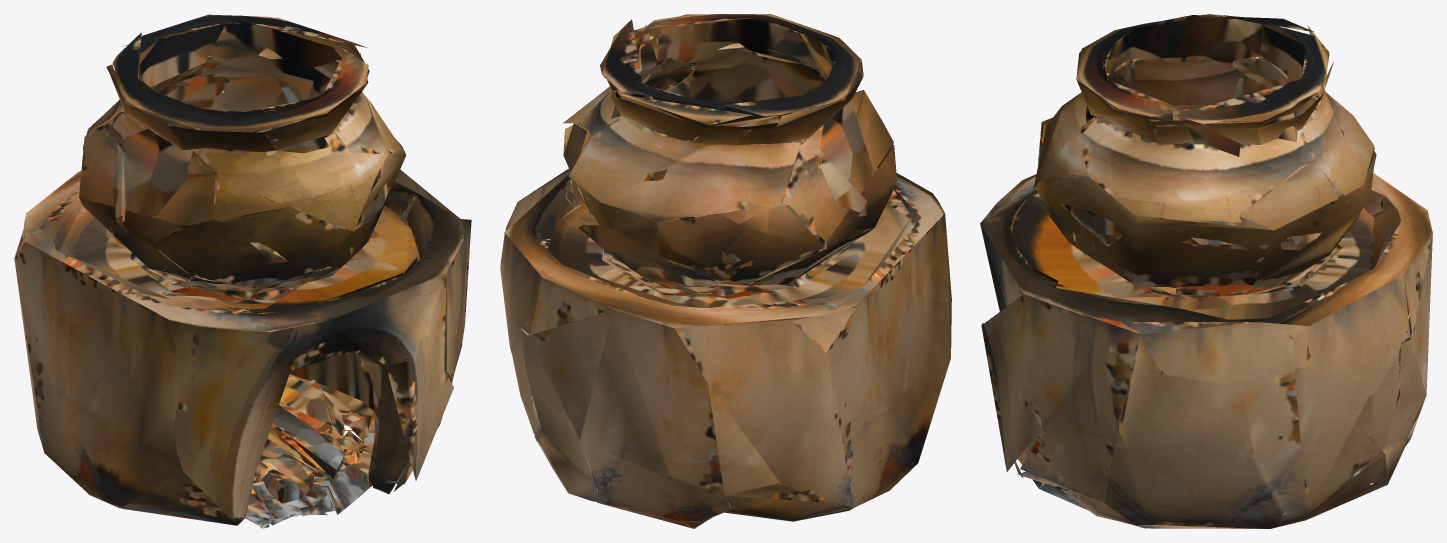
File: turtle-prop-clay-stove.glb
The picture shows the model from 3 angles, left to right: view 1: azimuth 30°, elevation 25°; view 2: azimuth 150°, elevation 25°; view 3: azimuth 270°, elevation 25°; orthographic projection. The views are drawn at different scales.
Parts seen in each view (by area): view 1: Mesh_0; view 2: Mesh_0; view 3: Mesh_0.
Part boxes in pixels (x1,y1,x2,y2): Mesh_0: (14, 14, 471, 528); Mesh_0: (500, 14, 951, 528); Mesh_0: (980, 14, 1432, 528).
Bounding box in the file's own units: 0.0588 × 0.0607 × 0.0614.
1 material, 1 textured.
